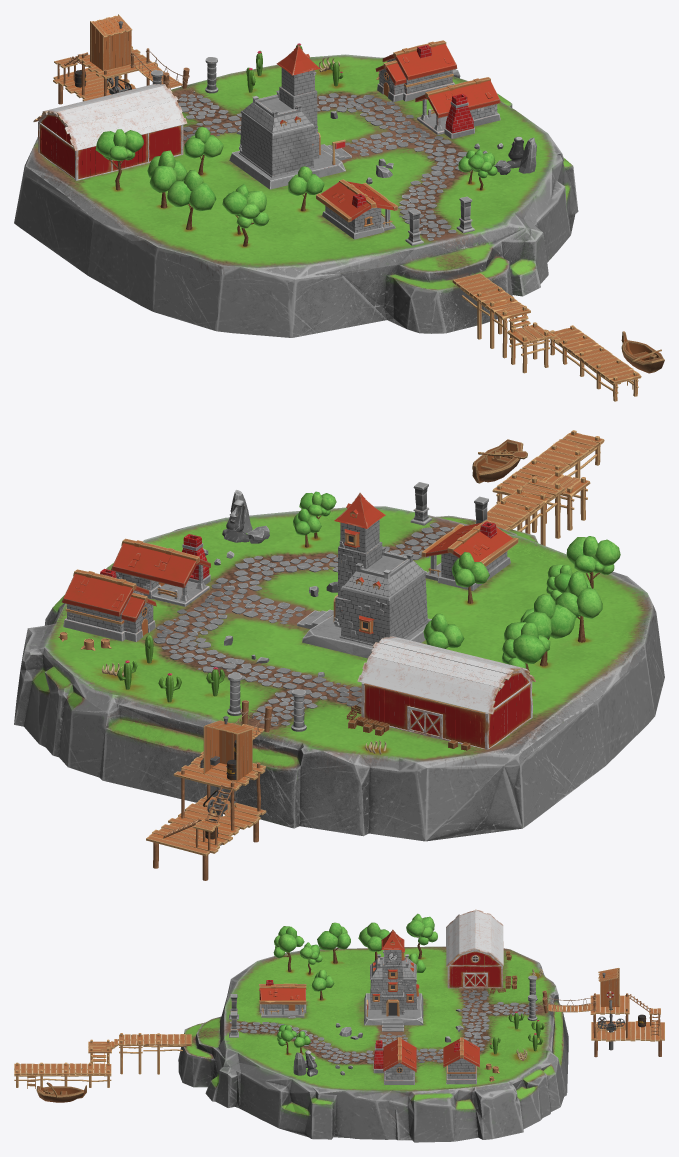
Rendered from main_scene.fbx.
3 views of the same model, one above another, from view 1: azimuth 30°, elevation 25°; view 2: azimuth 150°, elevation 25°; view 3: azimuth 270°, elevation 25° (orthographic). The views are drawn at different scales.
Visible parts, largest first — view 1: island, barn, mail_building, trees, road_rocks, jetty, oil_derrick, house_2, house_3, house_1, bridge, boat; view 2: island, barn, trees, mail_building, road_rocks, oil_derrick, jetty, house_3, house_2, house_1, bridge, stuff (+1 smaller); view 3: island, trees, mail_building, barn, road_rocks, jetty, oil_derrick, house_2, house_1, house_3, bridge, stuff (+1 smaller).
Boxes of the visible parts, <box> form: island: <box>14,54,578,337</box>; barn: <box>33,84,187,180</box>; mail_building: <box>229,44,351,189</box>; trees: <box>95,43,497,246</box>; road_rocks: <box>177,93,536,240</box>; jetty: <box>452,273,641,401</box>; oil_derrick: <box>53,14,157,104</box>; house_2: <box>415,77,500,138</box>; house_3: <box>375,40,457,102</box>; house_1: <box>316,179,397,239</box>; bridge: <box>130,51,474,245</box>; boat: <box>621,331,664,373</box>; island: <box>14,506,664,841</box>; barn: <box>357,636,535,749</box>; trees: <box>117,491,620,702</box>; mail_building: <box>297,492,431,658</box>; road_rocks: <box>153,490,454,726</box>; oil_derrick: <box>146,716,266,880</box>; jetty: <box>475,430,604,545</box>; house_3: <box>61,568,156,641</box>; house_2: <box>111,534,210,606</box>; house_1: <box>421,520,518,590</box>; bridge: <box>227,482,488,739</box>; stuff: <box>58,499,470,754</box>; island: <box>178,946,568,1142</box>; trees: <box>273,913,544,1054</box>; mail_building: <box>364,929,423,1031</box>; barn: <box>446,909,503,988</box>; road_rocks: <box>229,990,537,1075</box>; jetty: <box>14,1033,191,1088</box>; oil_derrick: <box>590,968,664,1057</box>; house_2: <box>373,1037,416,1084</box>; house_1: <box>258,980,306,1018</box>; house_3: <box>443,1037,479,1084</box>; bridge: <box>229,975,596,1037</box>; stuff: <box>305,951,542,1081</box>.
Bounding box in the file's own units: 1766 × 688 × 3094.
